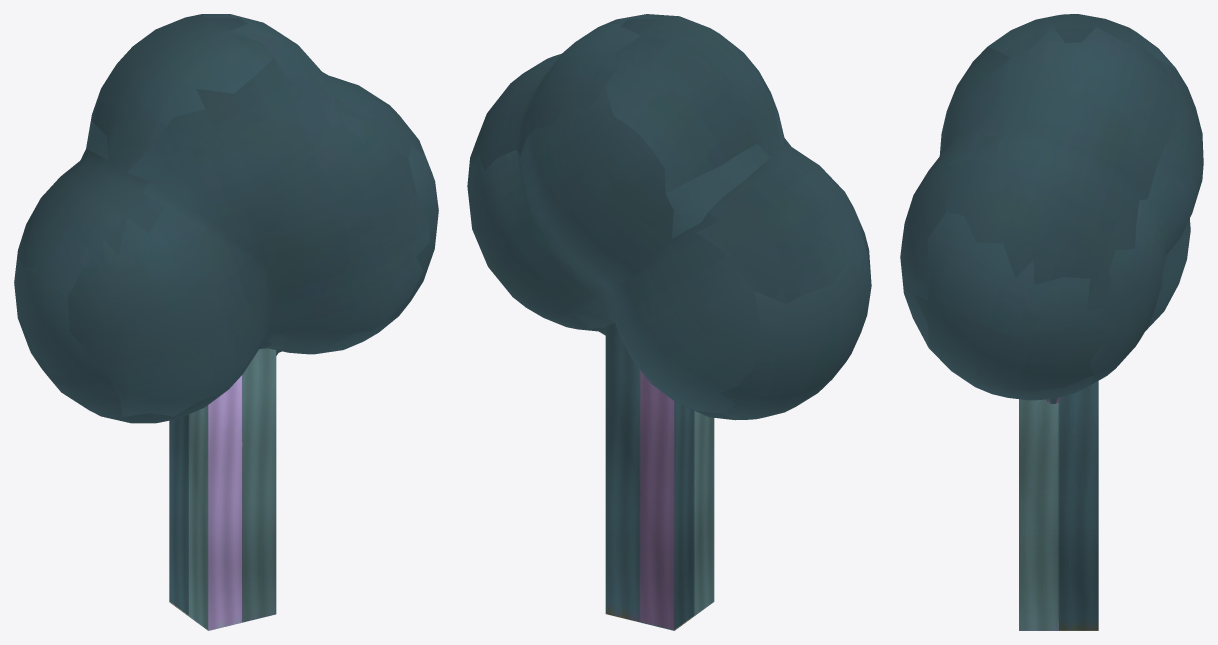
The model's file is tree_crooked_a.glb.
3 views of the same model, side by side, from view 1: azimuth 30°, elevation 25°; view 2: azimuth 150°, elevation 25°; view 3: azimuth 270°, elevation 25° (orthographic).
Visible parts, largest first — view 1: lod0, col; view 2: lod0, col; view 3: lod0, col.
Part boxes in pixels (x1,y1,x2,y2): lod0: (14,14,438,423); col: (169,348,276,630); lod0: (467,14,871,420); col: (605,323,714,630); lod0: (900,14,1203,404); col: (1019,381,1098,630).
Size of what is drawn, in the model's own units: 3.32 by 4.88 by 2.28.
2 materials, 2 textured.
